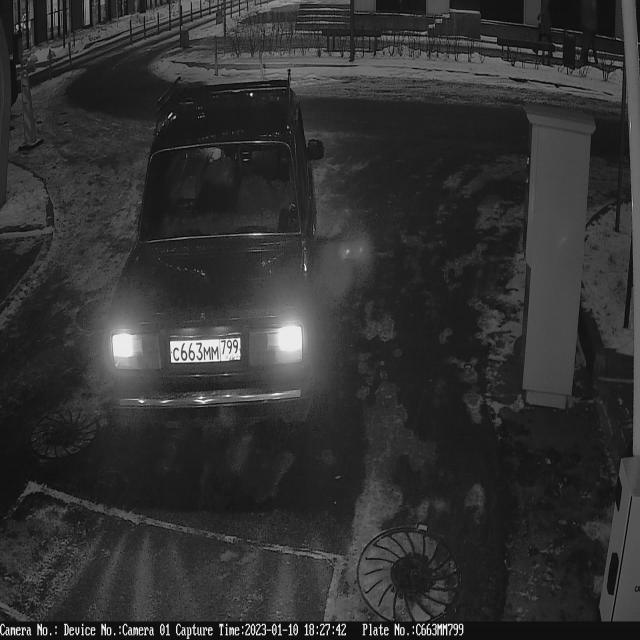car-plate-numbers: (165, 333, 243, 372)
